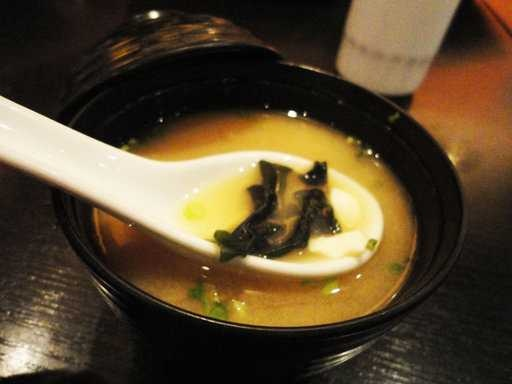soup: (51, 47, 461, 331)
